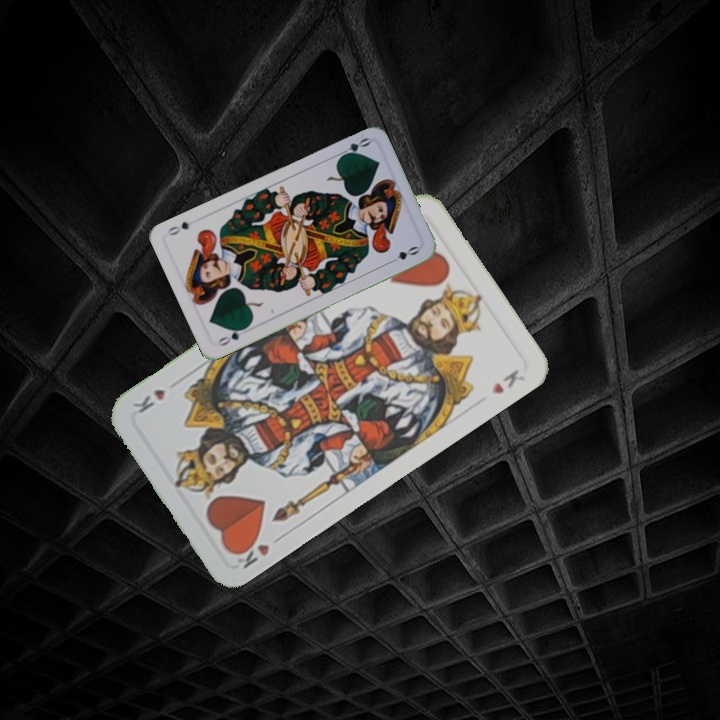GO: (334, 133, 373, 161), (213, 322, 250, 349)
HK: (229, 531, 286, 572)
